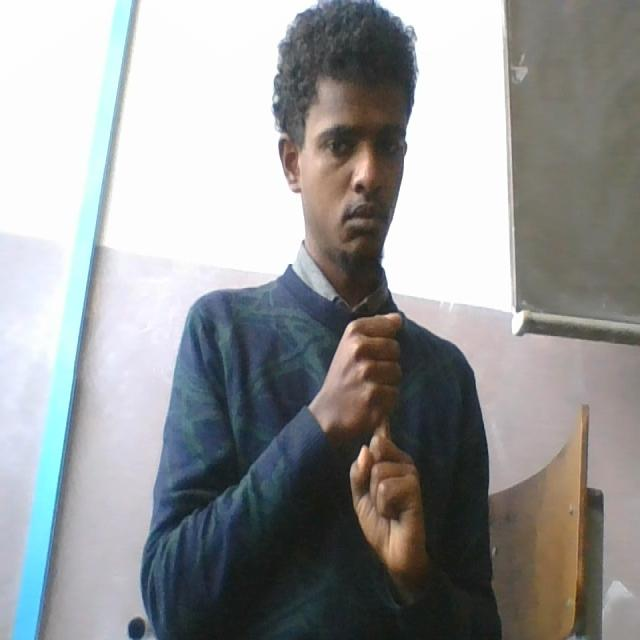meyaz: (326, 305, 436, 596)
